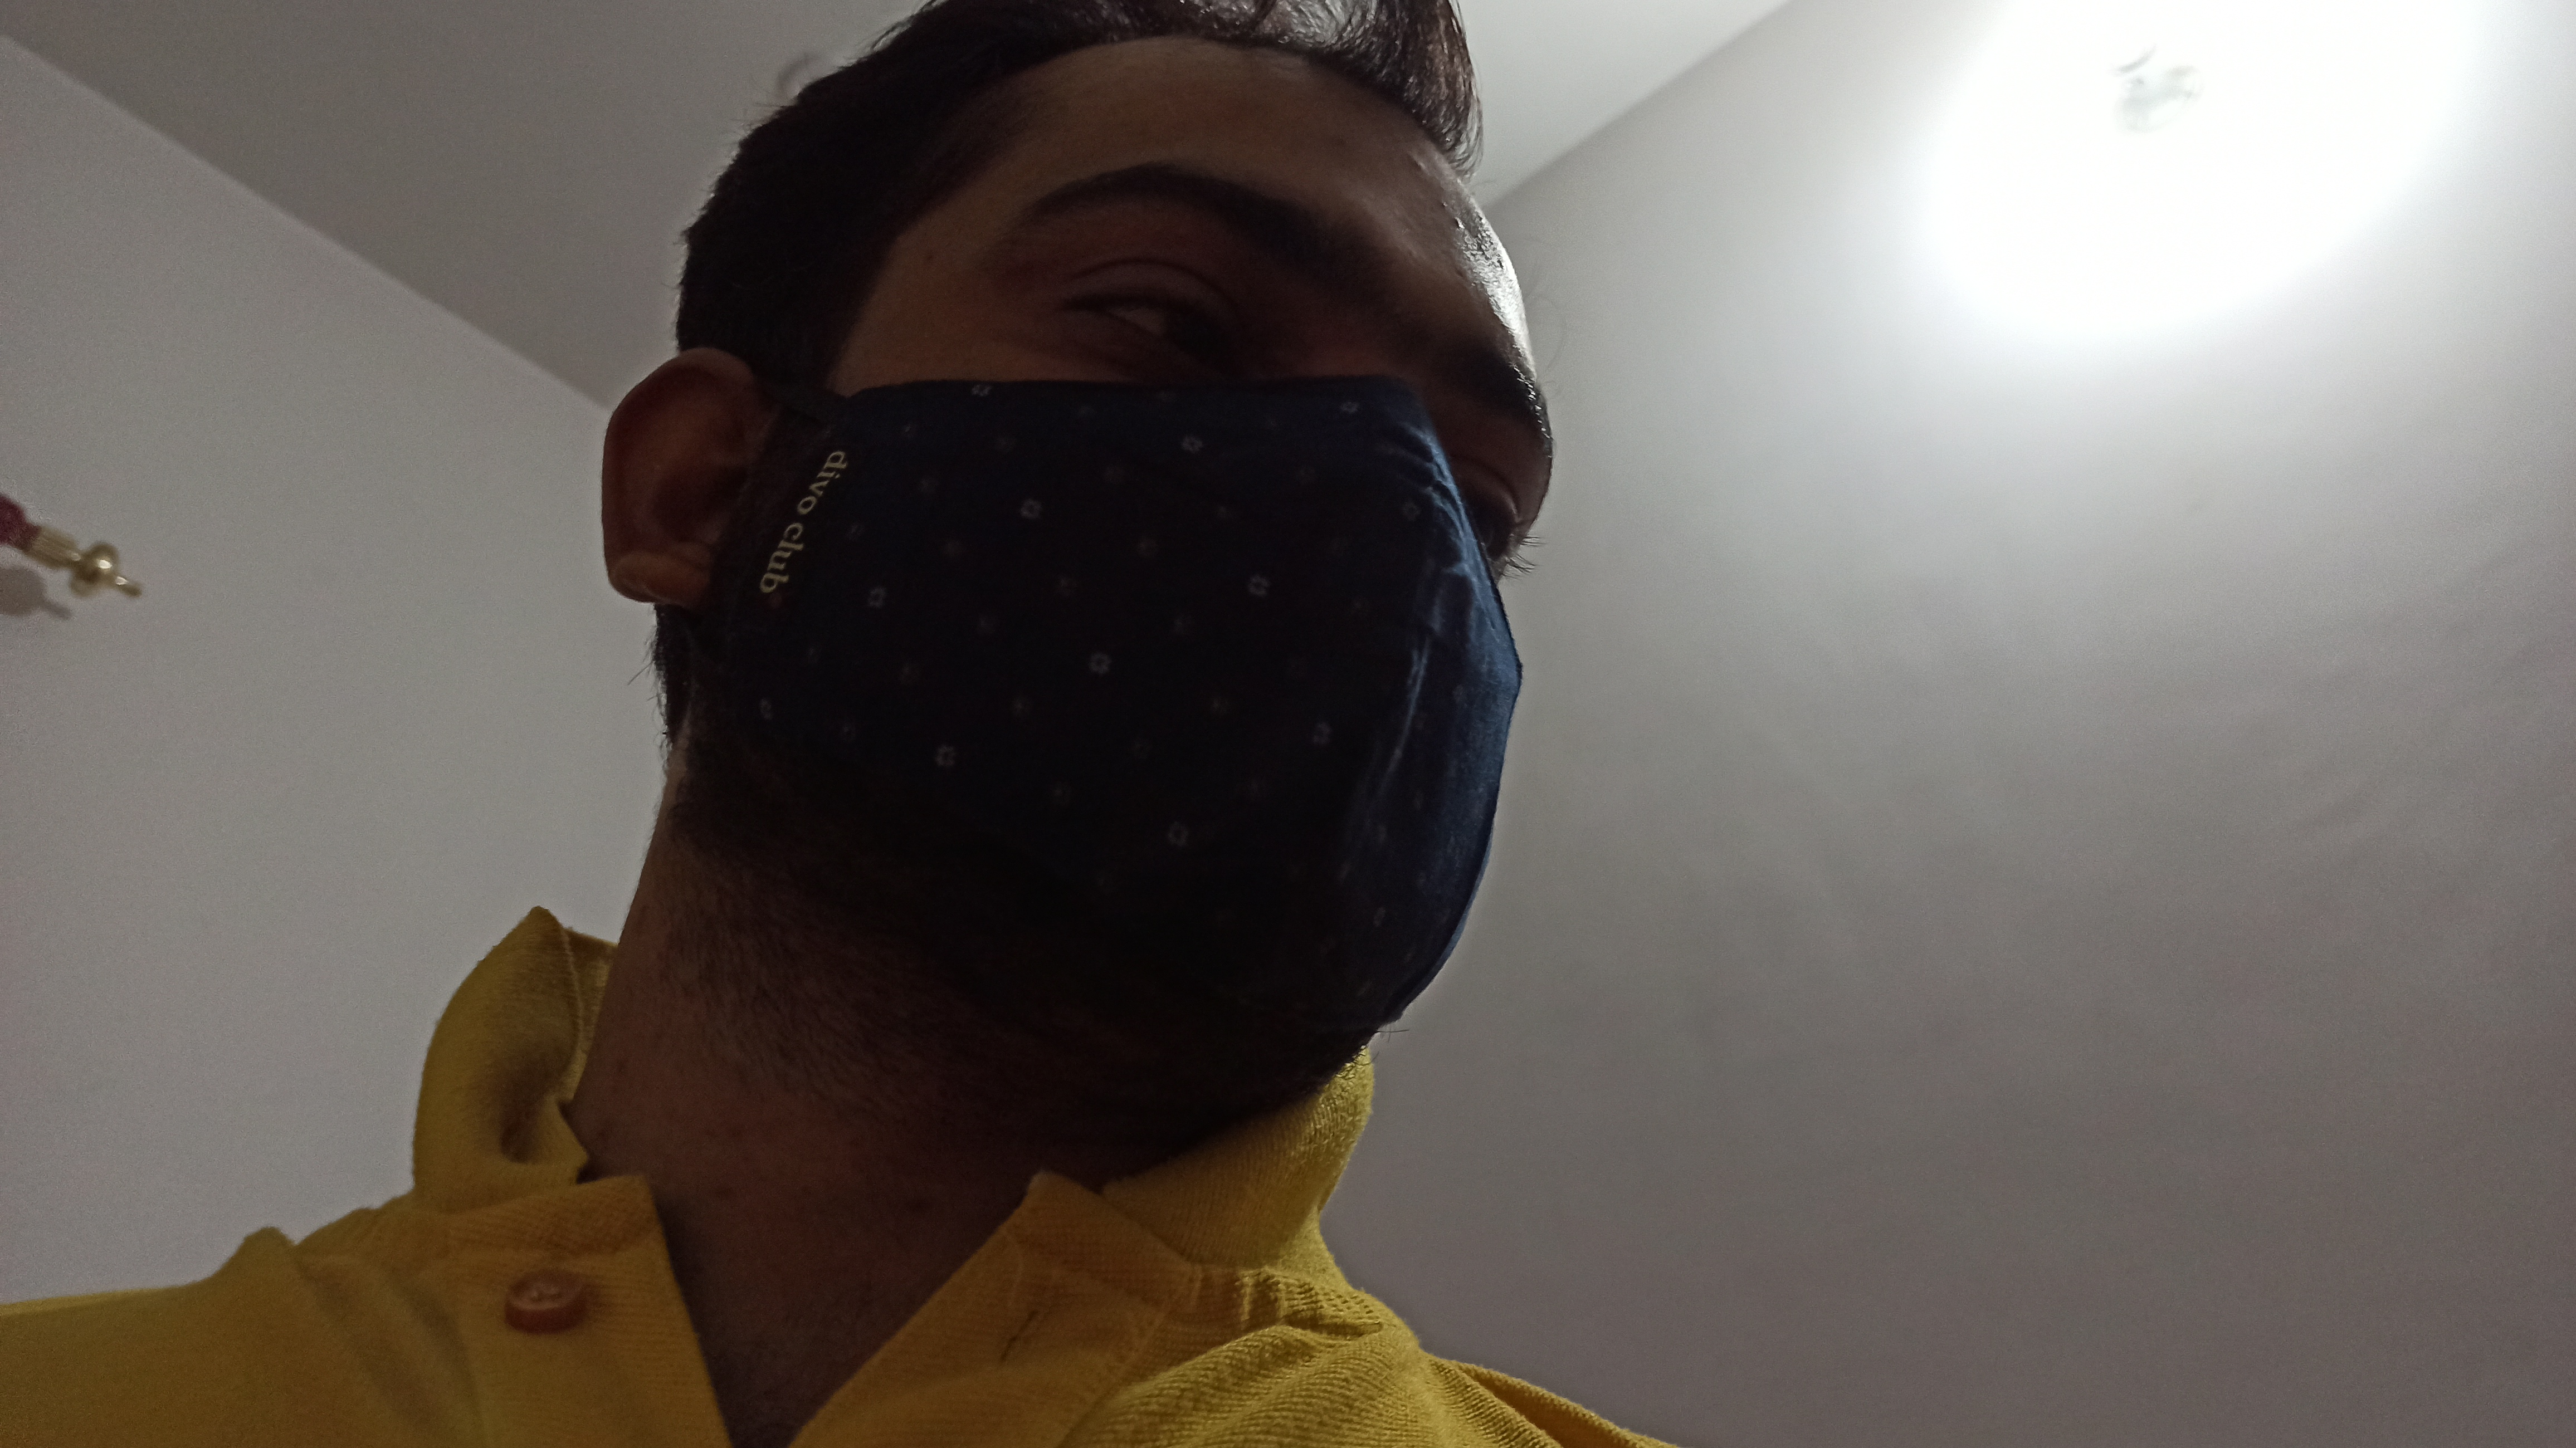Mask: (506, 394, 1621, 1109)
